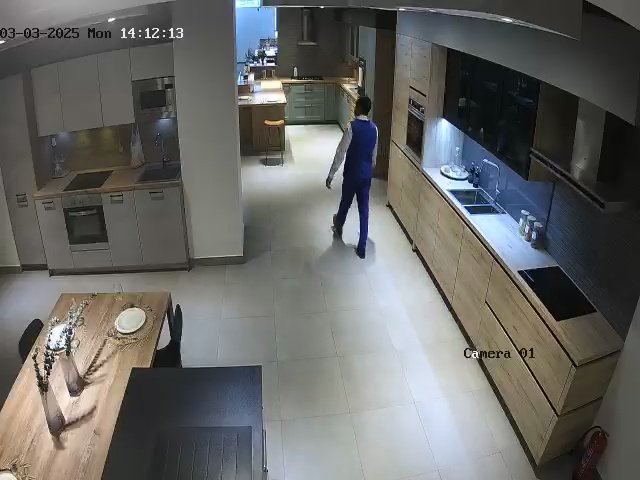employee: (325, 96, 378, 259)
